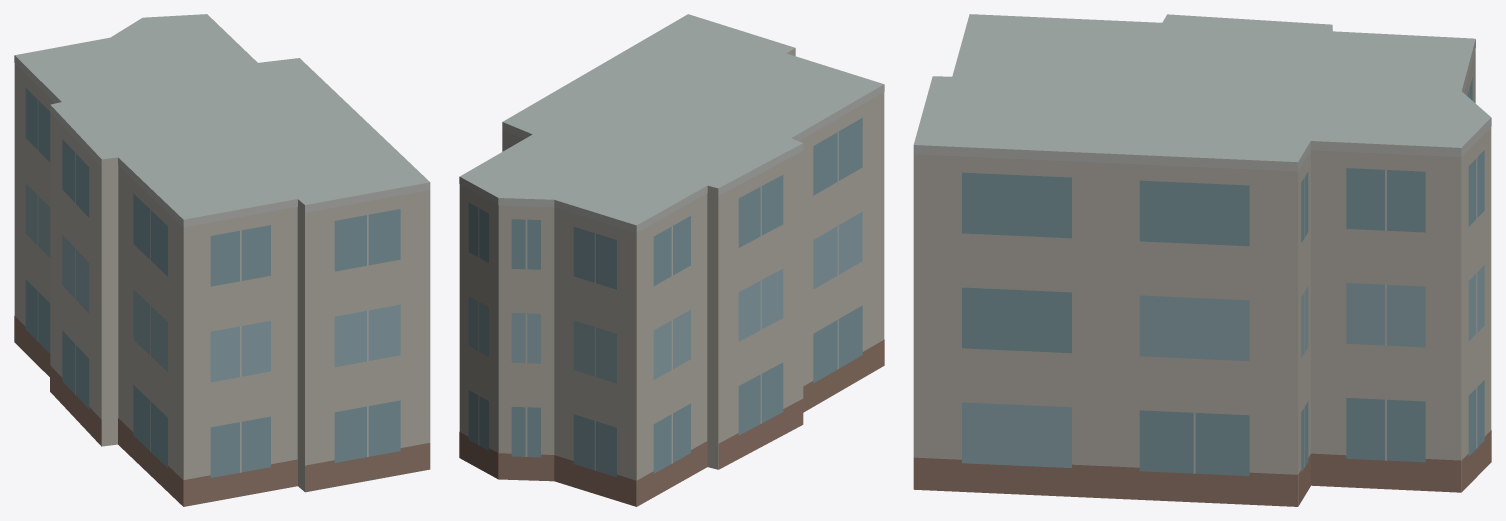
Rendered from survey-upis-32924491.glb.
3 renders of one model, left to right at view 1: azimuth 30°, elevation 25°; view 2: azimuth 150°, elevation 25°; view 3: azimuth 270°, elevation 25°, orthographic. The views are drawn at different scales.
Parts seen in each view (by area): view 1: survey-upis-32924491.tmp; view 2: survey-upis-32924491.tmp; view 3: survey-upis-32924491.tmp.
Part boxes in pixels (x1,y1,x2,y2): survey-upis-32924491.tmp: (14,14,430,506); survey-upis-32924491.tmp: (459,14,884,506); survey-upis-32924491.tmp: (913,14,1491,506).
Size of the model in its own units: 8.44 by 9.15 by 13.91.
